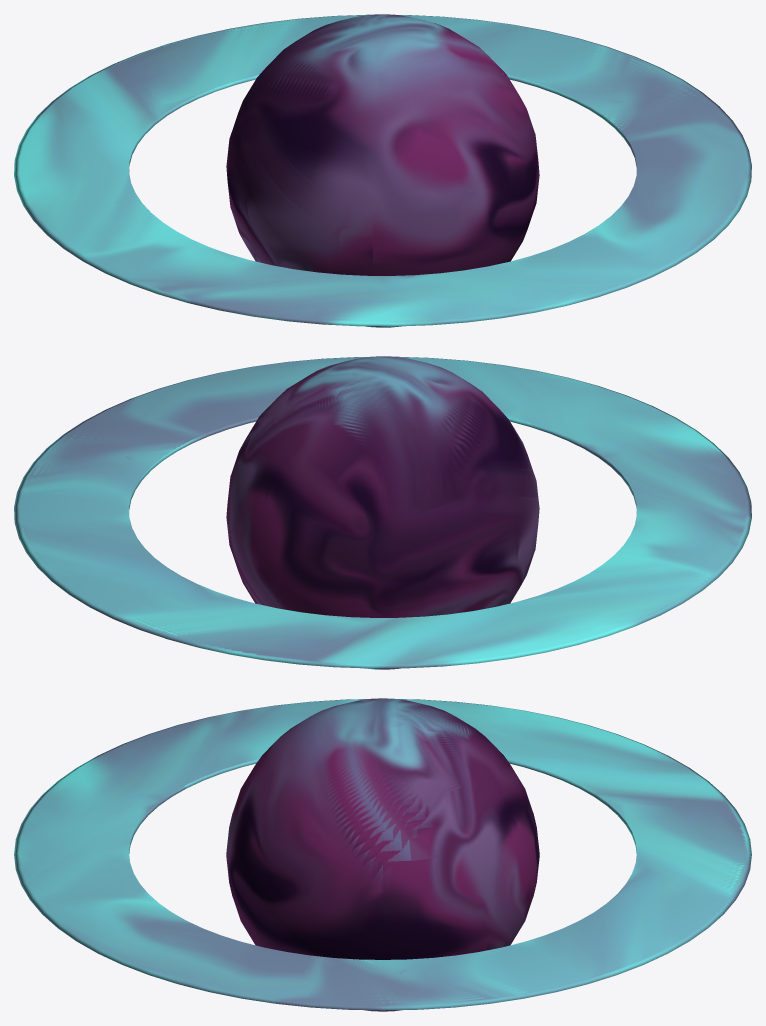
The model's file is appleplanetsmooth.glb.
3 views of the same model, one above another, from view 1: azimuth 30°, elevation 25°; view 2: azimuth 150°, elevation 25°; view 3: azimuth 270°, elevation 25° (orthographic).
Parts seen in each view (by area): view 1: Circle.001, Sphere; view 2: Circle.001, Sphere; view 3: Circle.001, Sphere.
Part boxes in pixels (x1,y1,x2,y2): Circle.001: [14, 14, 751, 326]; Sphere: [226, 14, 539, 327]; Circle.001: [14, 356, 751, 668]; Sphere: [226, 356, 539, 669]; Circle.001: [14, 699, 751, 1010]; Sphere: [226, 698, 539, 1011].
Bounding box in the file's own units: 9.44 × 4.01 × 9.44.
Materials: 2 (2 with a texture image).
